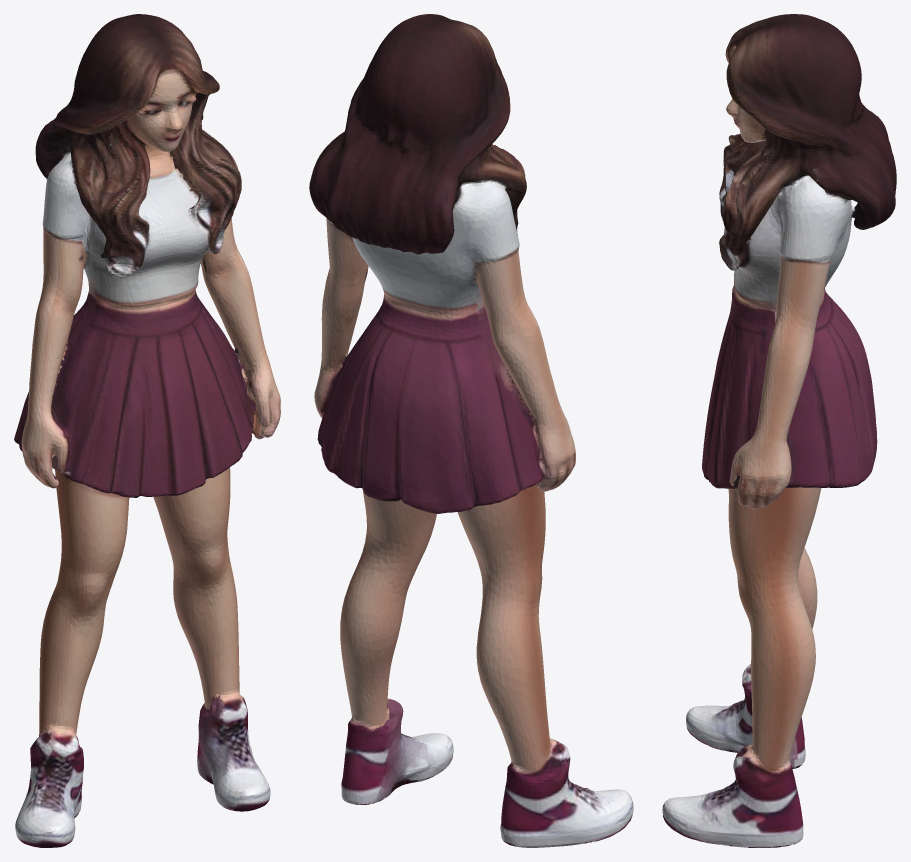
Rendered from main-f.glb.
3 renders of one model, left to right at view 1: azimuth 30°, elevation 25°; view 2: azimuth 150°, elevation 25°; view 3: azimuth 270°, elevation 25°, orthographic. The views are drawn at different scales.
Parts seen in each view (by area): view 1: tmp9vz4kffb.ply; view 2: tmp9vz4kffb.ply; view 3: tmp9vz4kffb.ply.
Boxes of the visible parts, x1,y1,x2,y2 form: tmp9vz4kffb.ply: (14,14,280,847); tmp9vz4kffb.ply: (309,14,633,847); tmp9vz4kffb.ply: (662,14,896,847).
Size of the model in its own units: 0.7442 by 1.99 by 0.5384.
1 material, 1 textured.
